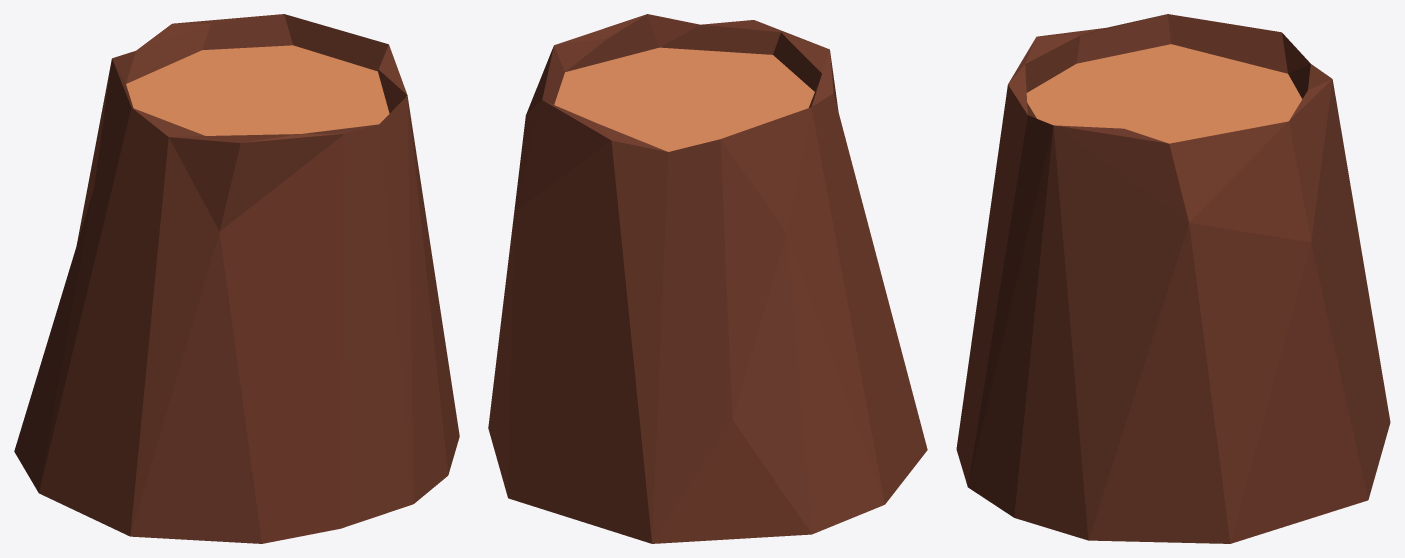
File: pine_trunk_type_3_LOD1.fbx
3 views of the same model, side by side, from view 1: azimuth 30°, elevation 25°; view 2: azimuth 150°, elevation 25°; view 3: azimuth 270°, elevation 25° (orthographic). The views are drawn at different scales.
Visible parts, largest first — view 1: pt_type_3; view 2: pt_type_3; view 3: pt_type_3.
Part boxes in pixels (<box>): pt_type_3: <box>14,14,459,543</box>; pt_type_3: <box>488,14,927,543</box>; pt_type_3: <box>956,14,1390,543</box>.
Bounding box in the file's own units: 200 × 188 × 193.
